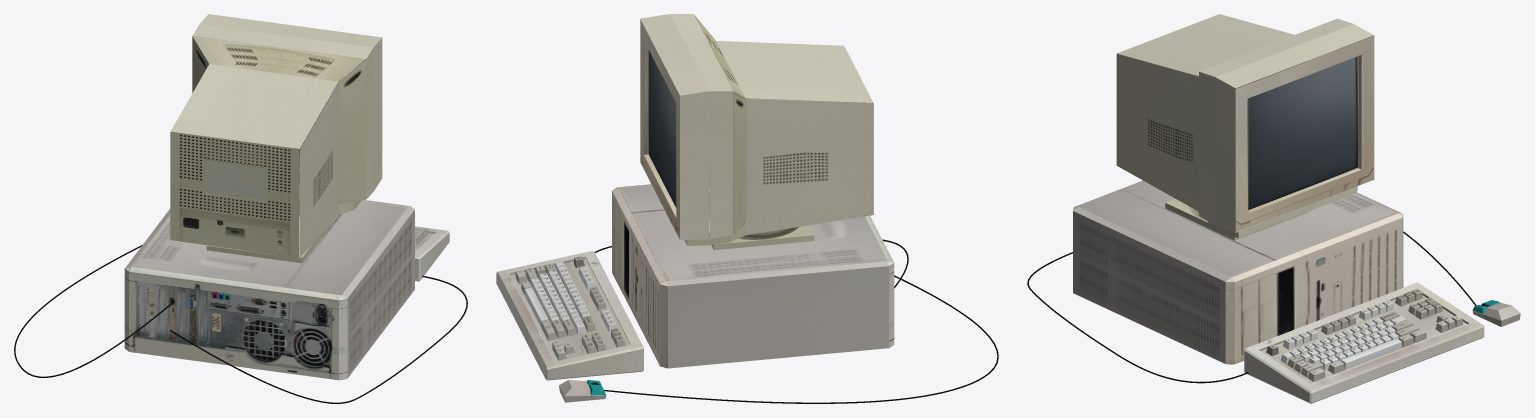
Rendered from Computer.fbx.
The picture shows the model from 3 angles, left to right: view 1: azimuth 30°, elevation 25°; view 2: azimuth 150°, elevation 25°; view 3: azimuth 270°, elevation 25°; orthographic projection. The views are drawn at different scales.
Visible parts, largest first — view 1: Tower; view 2: Tower; view 3: Tower.
Part boxes in pixels (x1,y1,x2,y2): Tower: [14, 14, 467, 403]; Tower: [496, 14, 998, 403]; Tower: [1027, 14, 1520, 403].
Bounding box in the file's own units: 111 × 61.35 × 103.
Materials: 8 (7 with a texture image).
